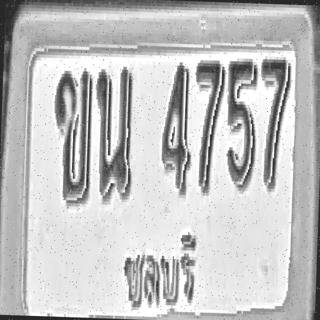A02: (51, 67, 94, 204)
A25: (93, 66, 135, 202)
N04: (159, 60, 193, 196)
N05: (224, 56, 258, 189)
N07: (257, 56, 291, 189), (192, 58, 224, 194)
P13: (118, 225, 199, 319)
